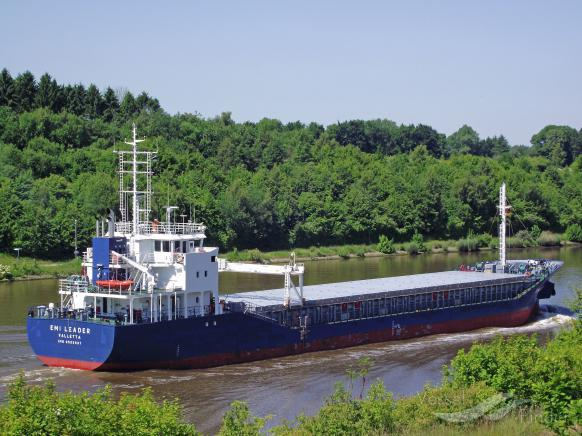OCR: (44, 317, 94, 352)
